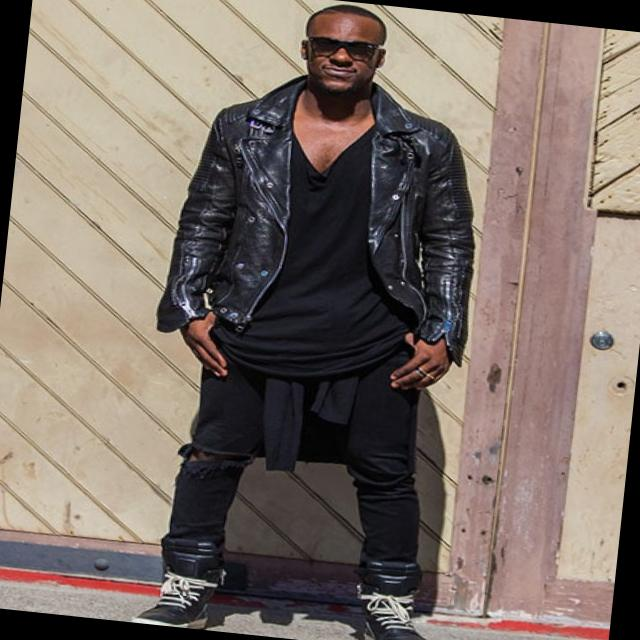Jacket: (155, 69, 497, 396)
